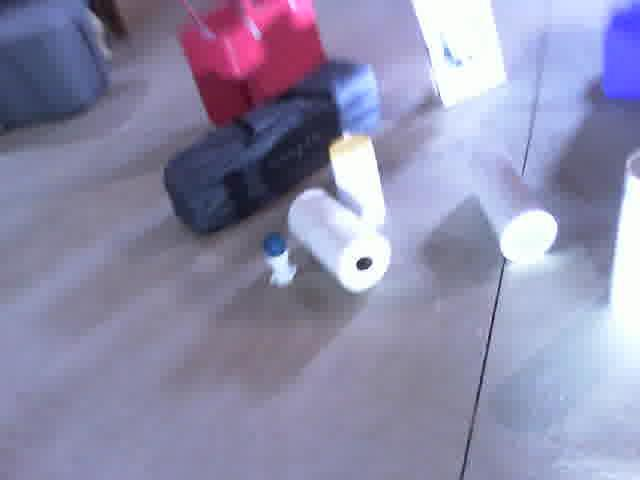coral: (286, 189, 390, 295), (463, 149, 559, 261), (608, 145, 640, 317)
